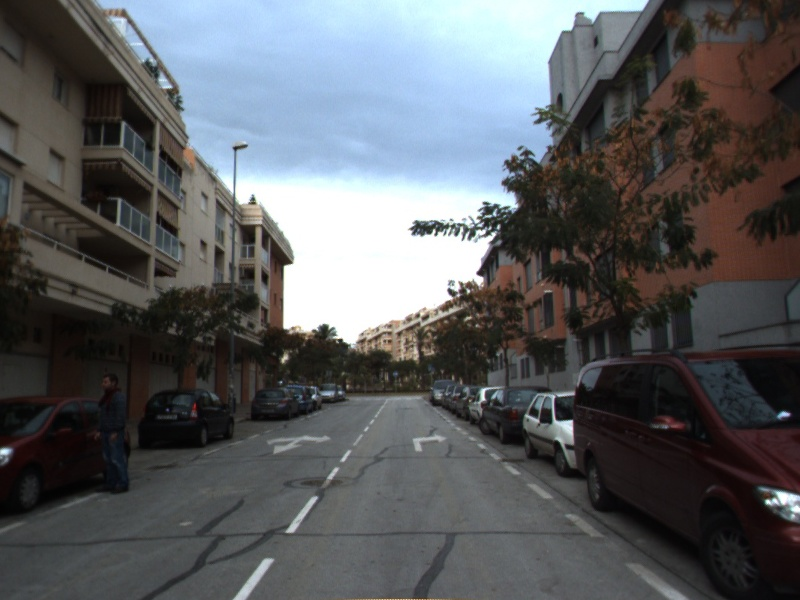RIGHT: (411, 431, 450, 453)
